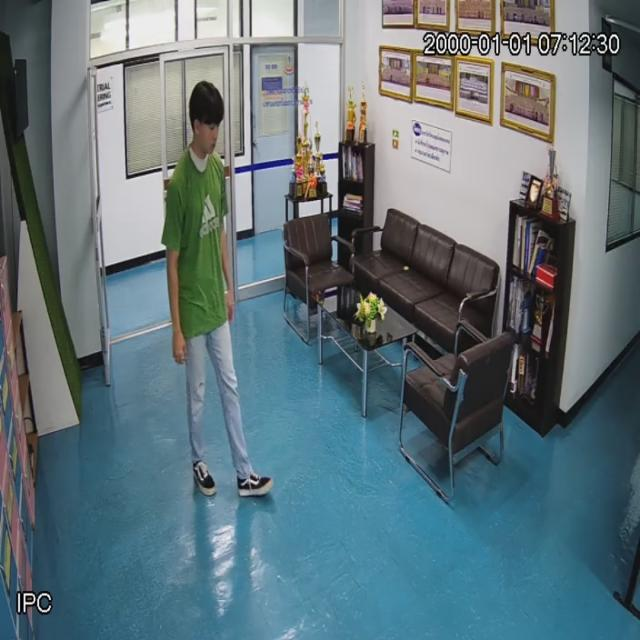normal: (161, 79, 256, 494)
